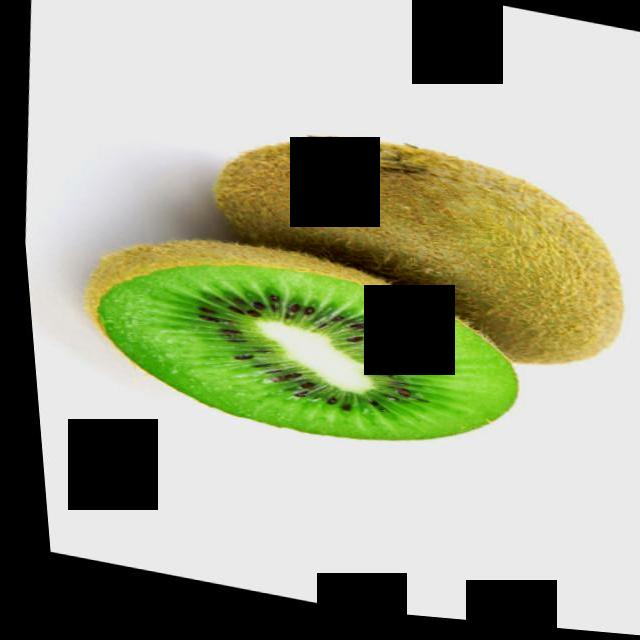kiwi: (194, 115, 640, 387)
